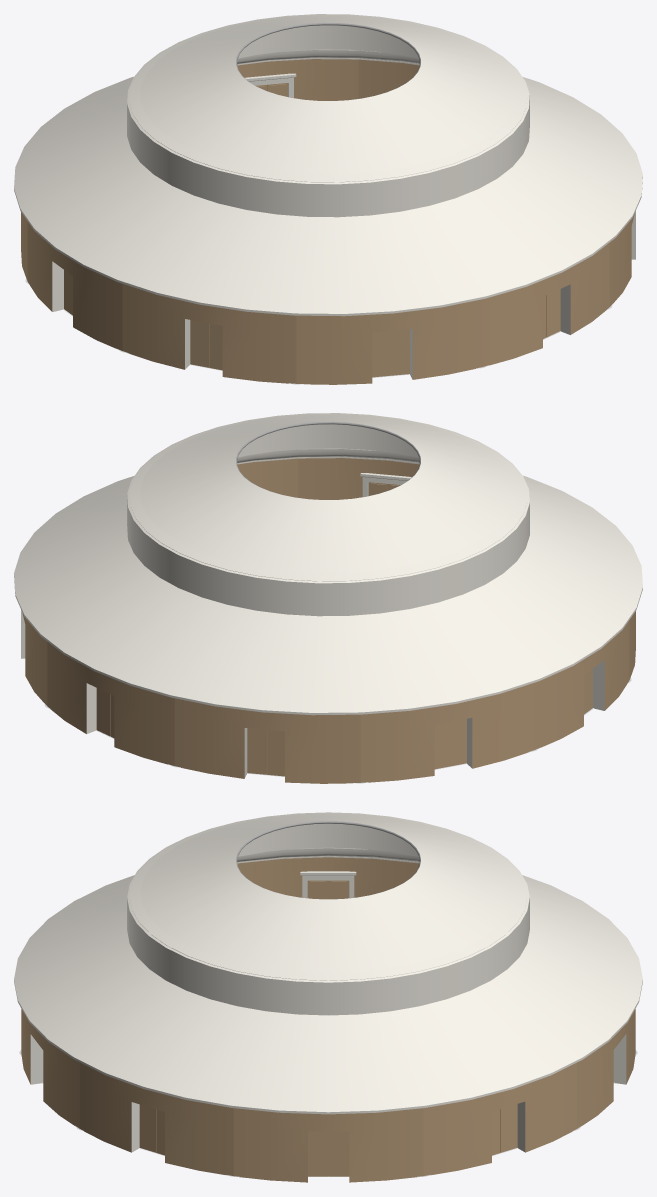
The model's file is T_root_dark_B.glb.
3 renders of one model, top to bottom at view 1: azimuth 30°, elevation 25°; view 2: azimuth 150°, elevation 25°; view 3: azimuth 270°, elevation 25°, orthographic.
Visible parts, largest first — view 1: Circle, doors; view 2: Circle, doors; view 3: Circle, doors.
Part boxes in pixels (<box>): Circle: <box>14,14,642,384</box>; doors: <box>52,73,635,379</box>; Circle: <box>14,413,642,783</box>; doors: <box>21,473,604,777</box>; Circle: <box>14,812,642,1182</box>; doors: <box>30,871,626,1176</box>.
Size of the model in its own units: 31.24 by 10.56 by 31.24.
